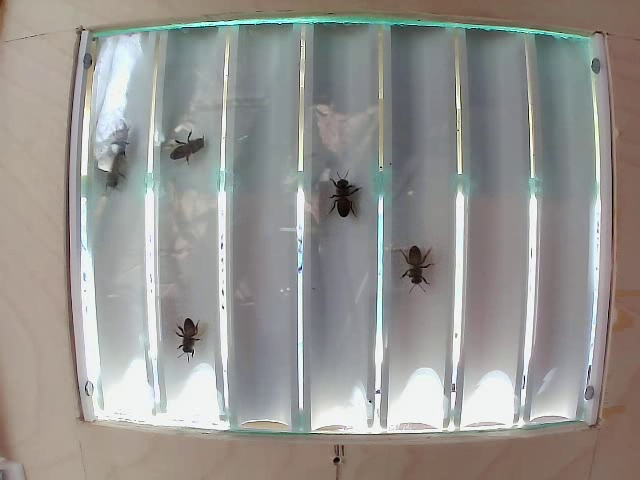bee: (395, 233, 440, 289), (86, 143, 134, 181), (321, 175, 359, 221), (164, 123, 206, 162), (167, 317, 209, 351)
